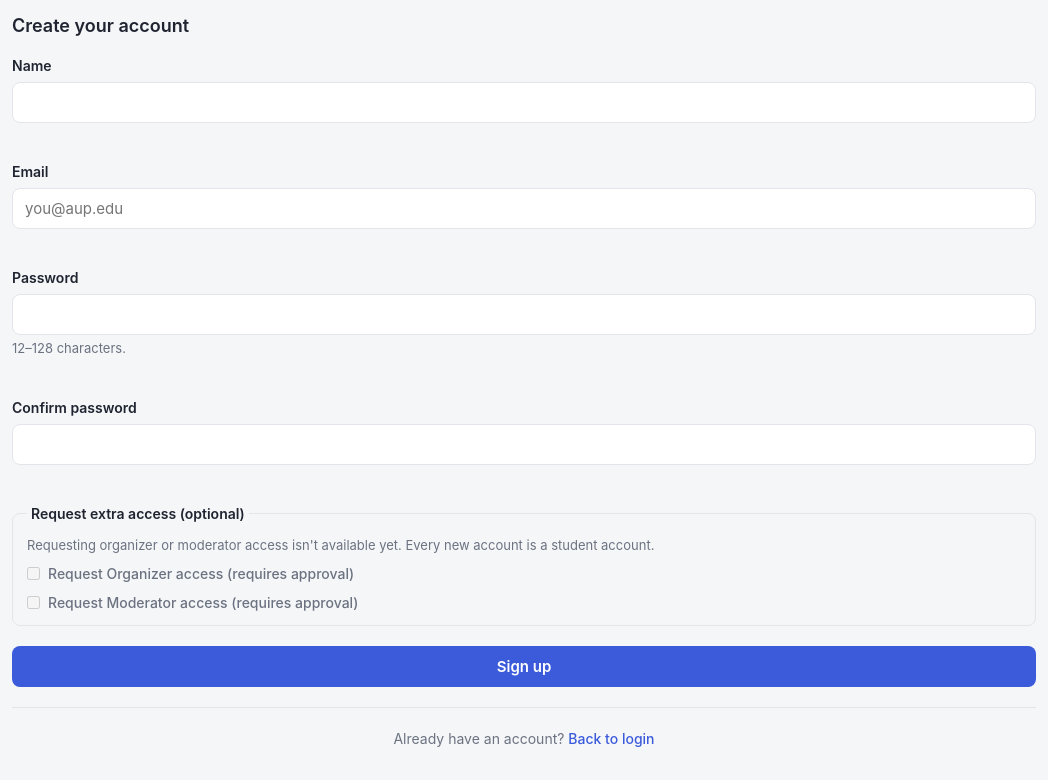
Test: Signup validation (QB-167) › makes no request for invalid input and keeps what was typed
In the field labelled "Email": [524, 208] box 12,188 -> 1036,229, type "not-an-email"
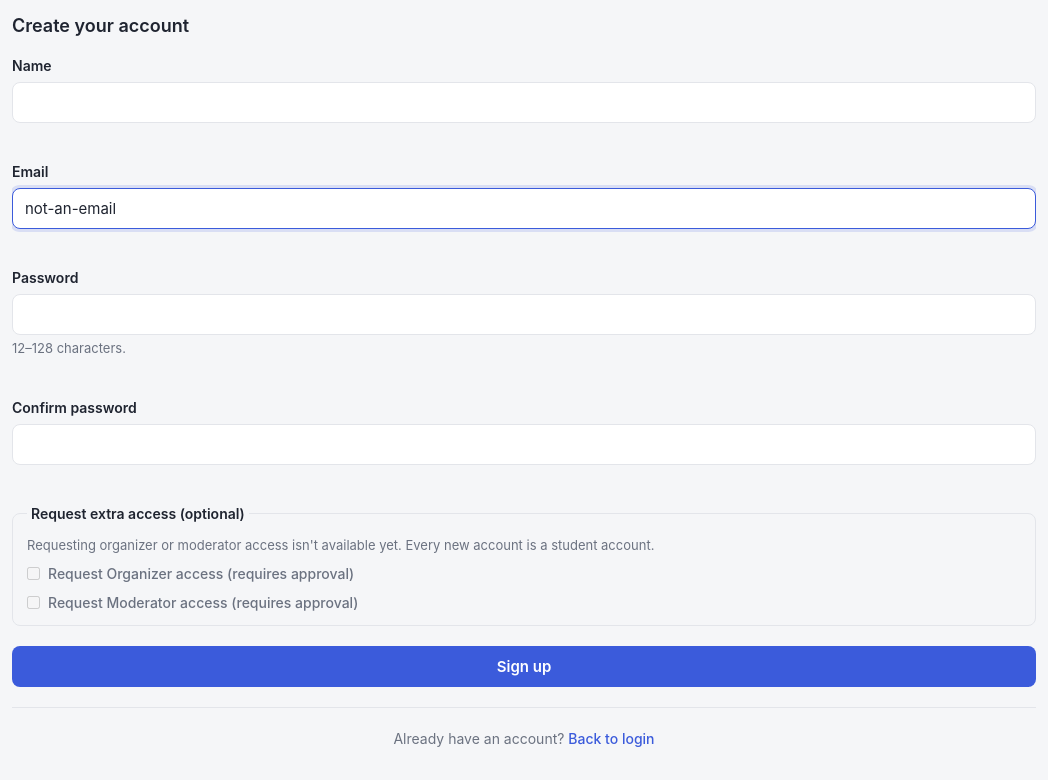
In the password field labelled "Password": [524, 314] box 12,294 -> 1036,335, type "short"
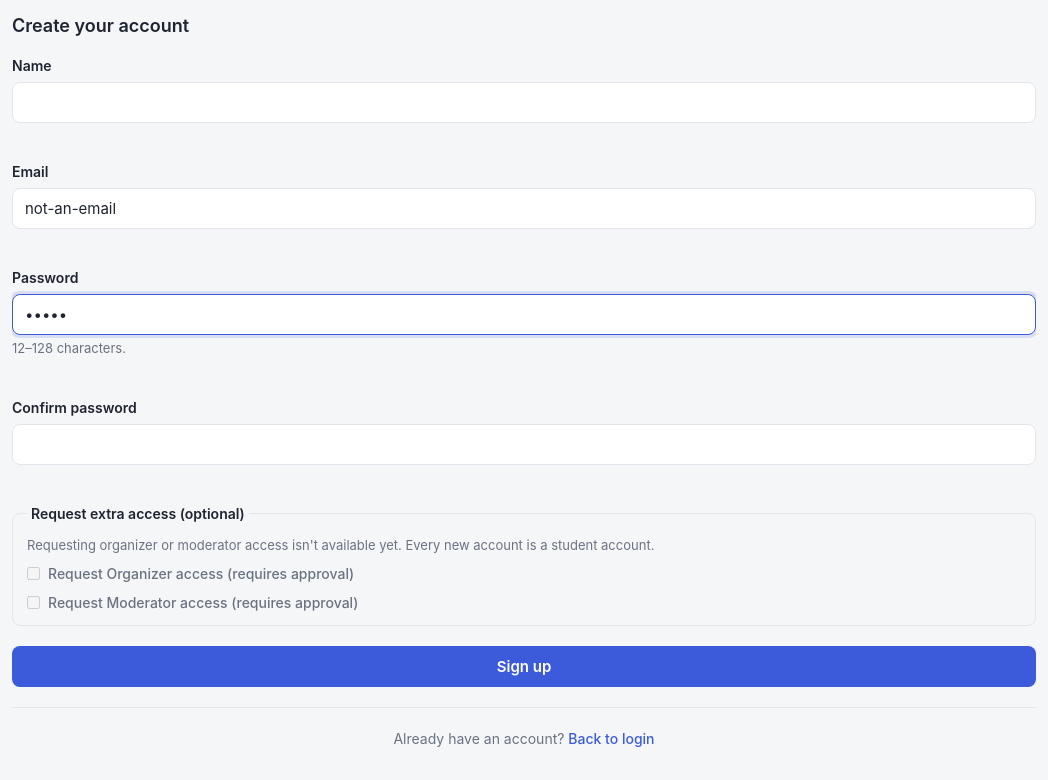
In the password field labelled "Confirm password": [524, 444] box 12,424 -> 1036,464, type "other"
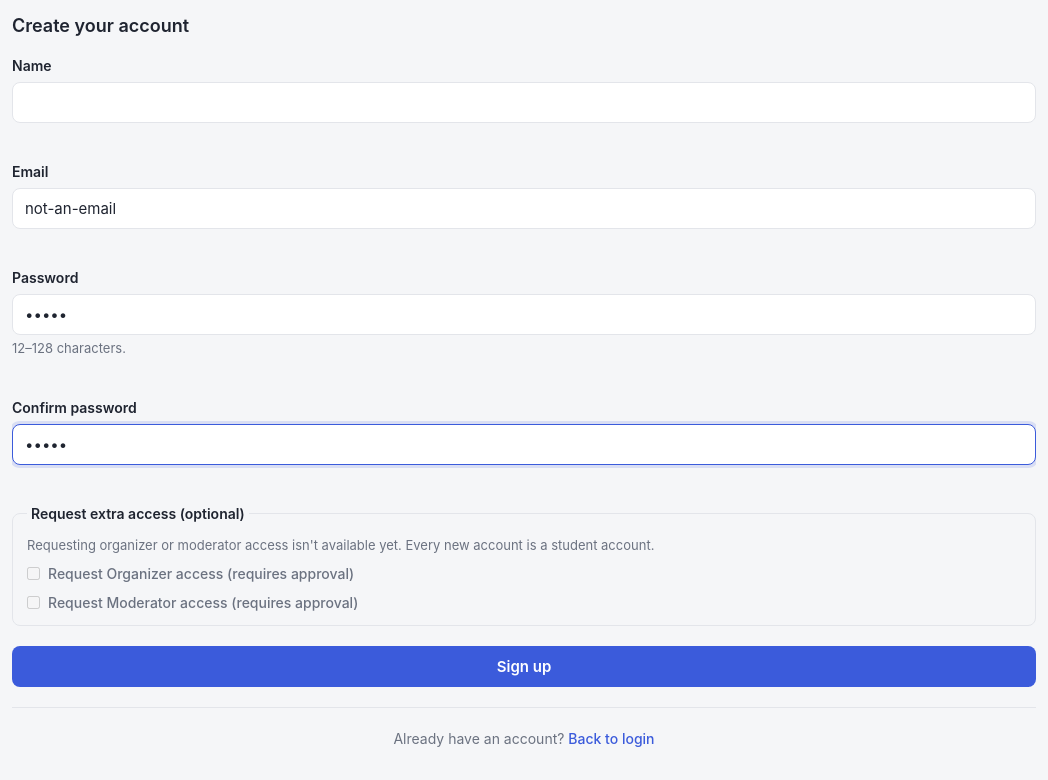
Click the button "Sign up": [524, 666] box 12,646 -> 1036,687
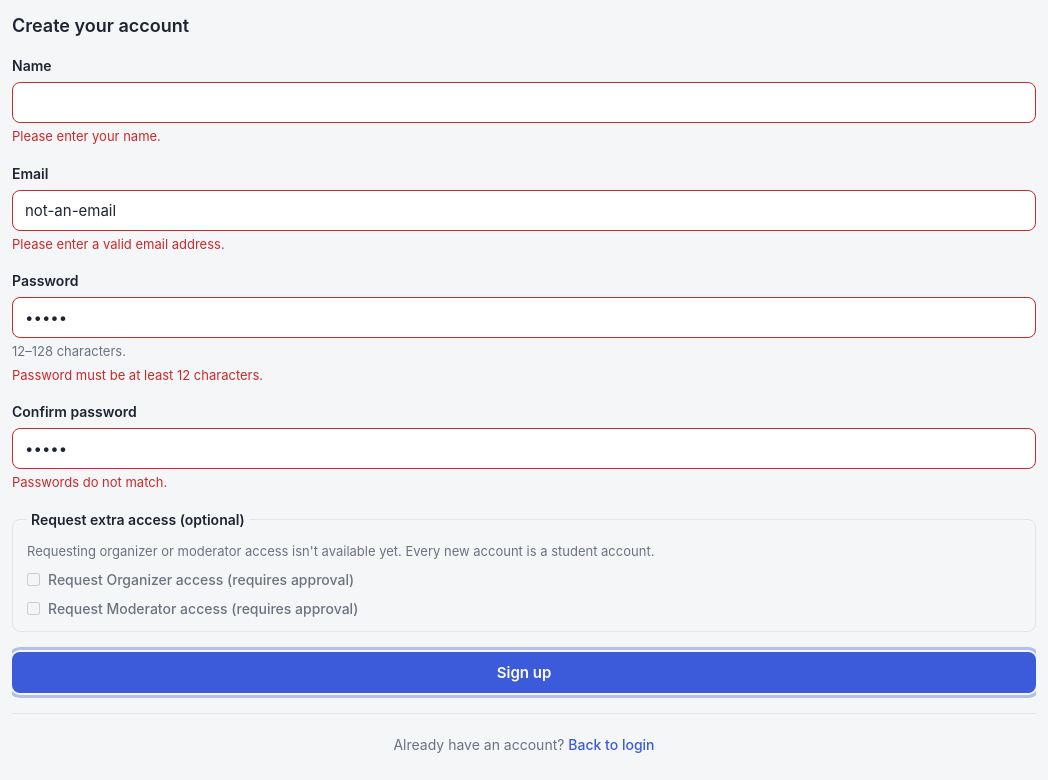
Result: the text "Please enter your name." is shown at 12,128 -> 161,144
Result: the text "Please enter a valid email address." is shown at 12,236 -> 225,252
Result: the text "Password must be at least 12 characters." is shown at 12,366 -> 263,382
